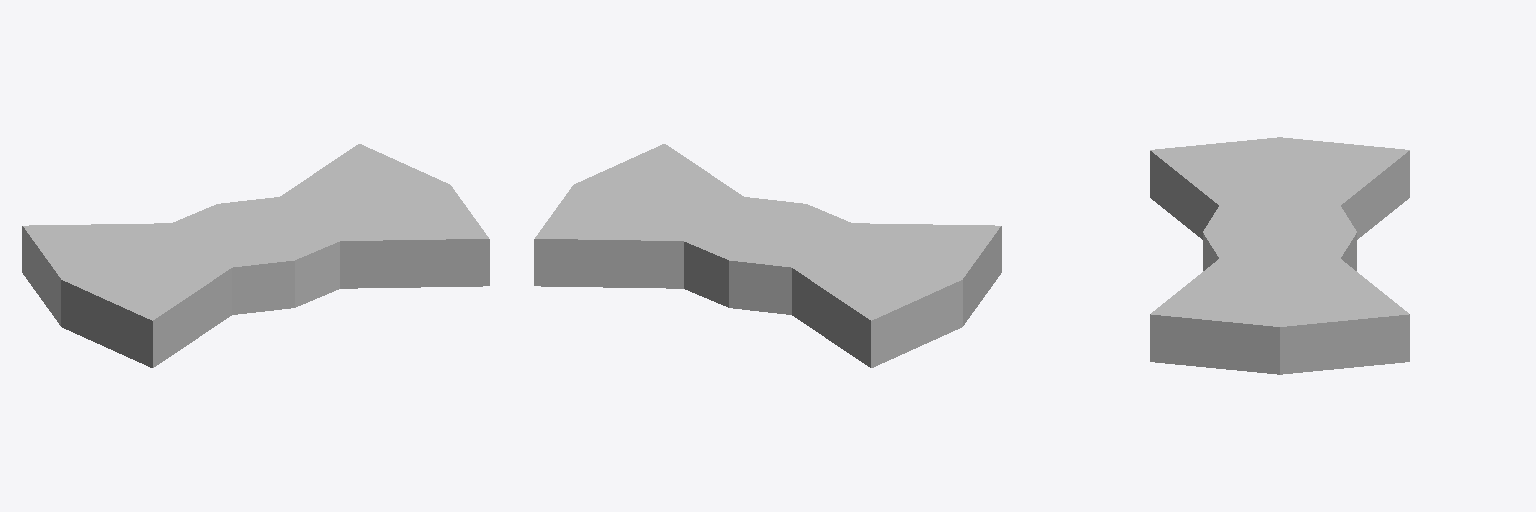
File: Axe_PreAnvil.obj
3 views of the same model, side by side, from view 1: azimuth 30°, elevation 25°; view 2: azimuth 150°, elevation 25°; view 3: azimuth 270°, elevation 25° (orthographic).
Visible parts, largest first — view 1: Axe_Shape; view 2: Axe_Shape; view 3: Axe_Shape.
Part boxes in pixels (x1,y1,x2,y2): Axe_Shape: (22, 144, 489, 367); Axe_Shape: (534, 144, 1001, 367); Axe_Shape: (1150, 137, 1409, 374).
Bounding box in the file's own units: 3.71 × 0.4331 × 2.15.